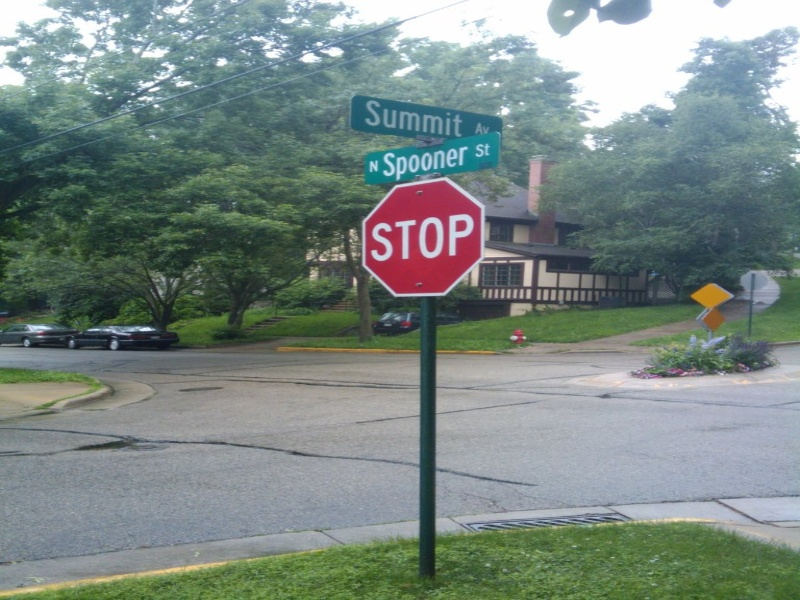stop: (352, 176, 490, 299)
